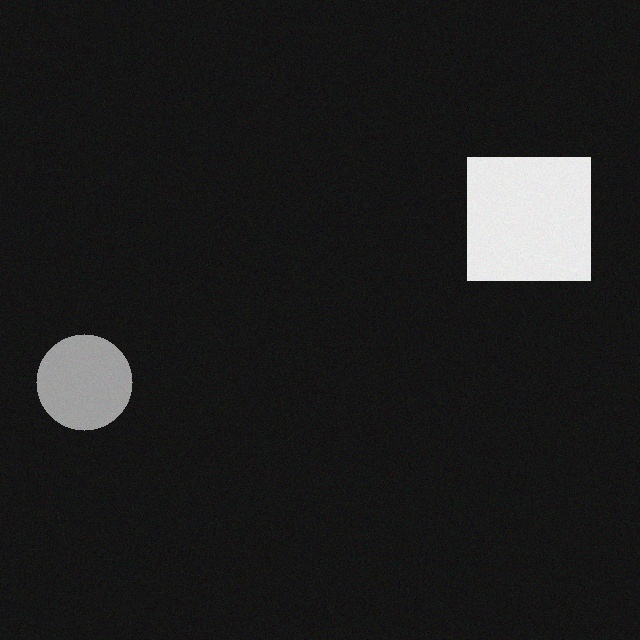circle: (35, 327, 131, 423)
square: (466, 150, 589, 273)
